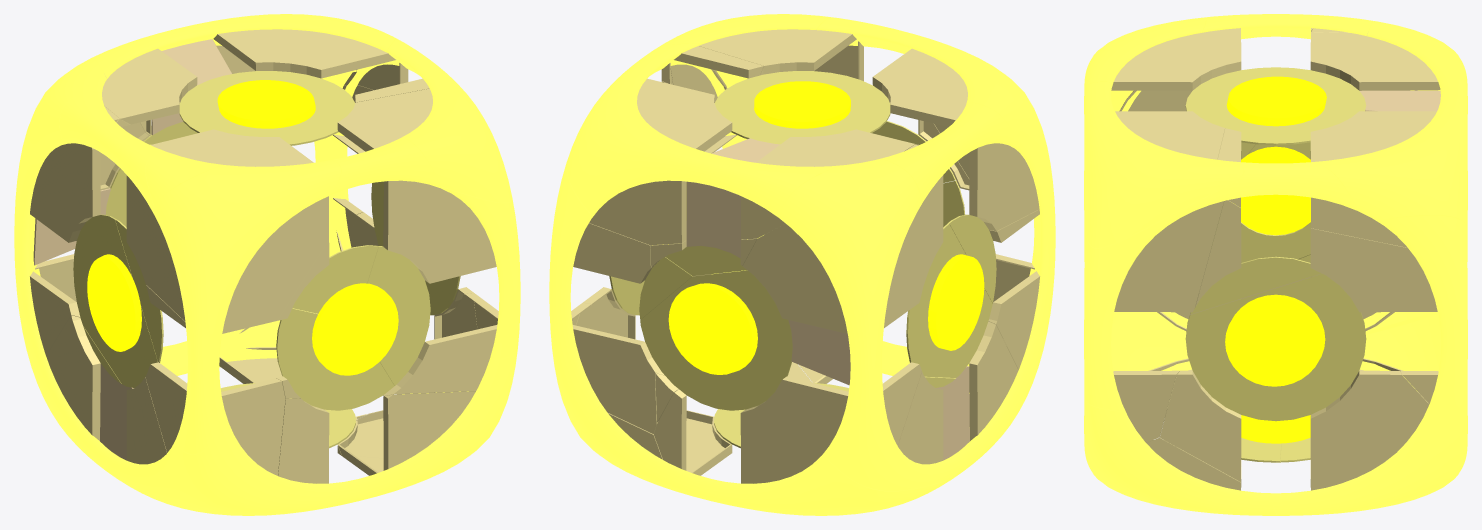
Rendered from BrokenBoxFour.fbx.
3 renders of one model, left to right at view 1: azimuth 30°, elevation 25°; view 2: azimuth 150°, elevation 25°; view 3: azimuth 270°, elevation 25°, orthographic.
Parts seen in each view (by area): view 1: Cube.001_cell.007, 円.000_cell.009, 円.003, 円.000_cell.001, Cube.001_cell, Cube.001_cell.001, Cube.001_cell.005, 円.000_cell.010, Cube.001_cell.003, 円.000_cell.026, 円.000_cell.006, 円.001_cell.005 (+31 smaller); view 2: Cube.001_cell.001, 円.003, Cube.001_cell.002, Cube.001_cell.006, 円.000_cell.006, 円.000_cell.009, 円.000_cell.024, 円.001_cell.006, 円.000_cell.010, Cube.001_cell.007, 円.000_cell.001, Cube.001_cell.010 (+31 smaller); view 3: Cube.001_cell.010, 円.003, 円.001_cell.004, Cube.001_cell.002, Cube.001_cell.005, Cube.001_cell.004, 円.000_cell.001, 円.000_cell.005, Cube.001_cell.003, 円.000_cell, 円.000_cell.009, 円.000_cell.010 (+20 smaller).
Boxes of the visible parts, bbox=[...] form: Cube.001_cell.007: bbox=[153, 160, 340, 454]; 円.000_cell.009: bbox=[126, 129, 328, 333]; 円.003: bbox=[87, 80, 398, 375]; 円.000_cell.001: bbox=[337, 88, 496, 283]; Cube.001_cell: bbox=[105, 411, 350, 515]; Cube.001_cell.001: bbox=[14, 57, 111, 470]; Cube.001_cell.005: bbox=[402, 69, 511, 202]; 円.000_cell.010: bbox=[213, 29, 408, 90]; Cube.001_cell.003: bbox=[320, 353, 517, 509]; 円.000_cell.026: bbox=[145, 362, 285, 475]; 円.000_cell.006: bbox=[30, 106, 149, 242]; 円.001_cell.005: bbox=[179, 71, 355, 145]; Cube.001_cell.001: bbox=[778, 159, 967, 490]; 円.003: bbox=[668, 81, 984, 374]; Cube.001_cell.002: bbox=[566, 74, 840, 216]; Cube.001_cell.006: bbox=[581, 405, 957, 515]; 円.000_cell.006: bbox=[742, 144, 943, 333]; 円.000_cell.009: bbox=[872, 48, 1039, 231]; 円.000_cell.024: bbox=[740, 362, 921, 483]; 円.001_cell.006: bbox=[640, 270, 792, 410]; 円.000_cell.010: bbox=[589, 78, 732, 245]; Cube.001_cell.007: bbox=[905, 33, 1055, 337]; 円.000_cell.001: bbox=[670, 29, 863, 153]; Cube.001_cell.010: bbox=[549, 161, 601, 439]; Cube.001_cell.010: bbox=[1271, 215, 1467, 515]; 円.003: bbox=[1225, 76, 1326, 443]; 円.001_cell.004: bbox=[1185, 274, 1366, 421]; Cube.001_cell.002: bbox=[1314, 42, 1467, 226]; Cube.001_cell.005: bbox=[1084, 120, 1243, 248]; Cube.001_cell.004: bbox=[1084, 160, 1357, 411]; 円.000_cell.001: bbox=[1114, 111, 1225, 312]; 円.000_cell.005: bbox=[1310, 370, 1429, 490]; Cube.001_cell.003: bbox=[1084, 397, 1277, 515]; 円.000_cell: bbox=[1310, 228, 1437, 312]; 円.000_cell.009: bbox=[1111, 28, 1241, 111]; 円.000_cell.010: bbox=[1310, 111, 1436, 247].
Bounding box in the file's own units: 203 × 203 × 203.
